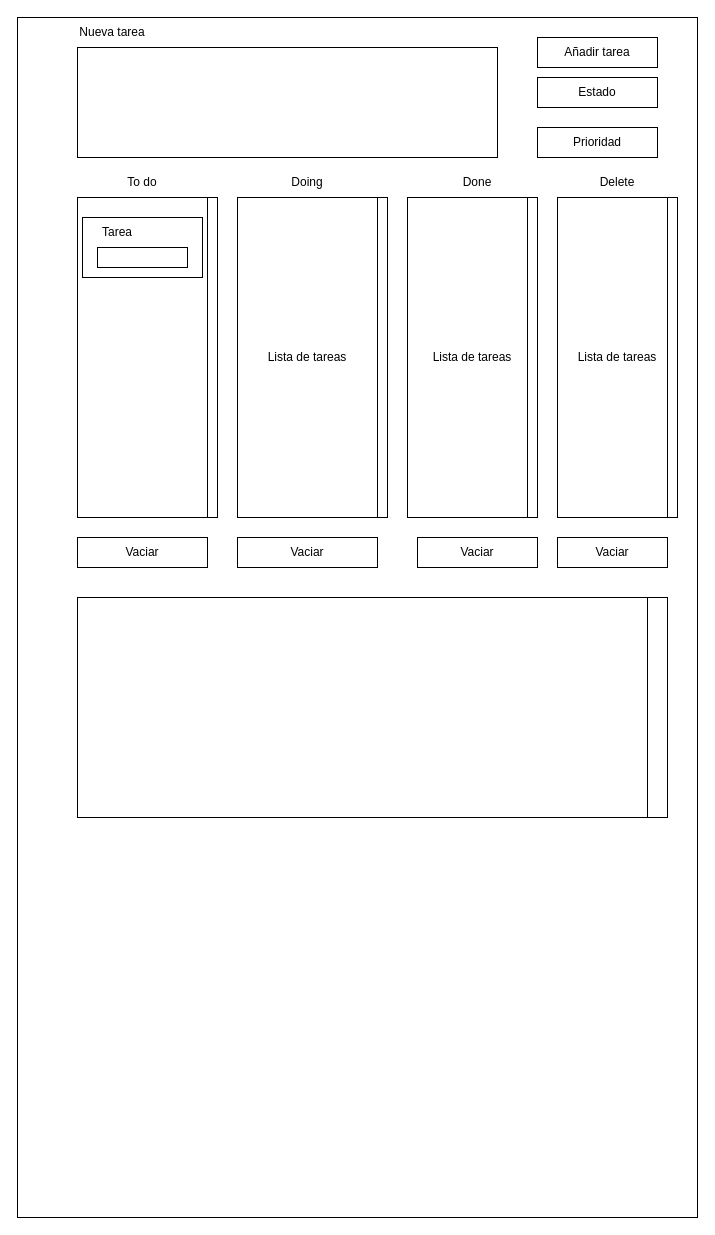
Image size: 715x1235. Some labels were removed from this diagram. The shapes that lost their labels are listed below. From the top down, each one's box as (x1, y1, x2, y2) in pixels, then its label:
(76, 46, 498, 158): Descripcion de la tarea
(96, 246, 188, 268): Cambiar estado
(76, 596, 668, 818): Todas las tareas
